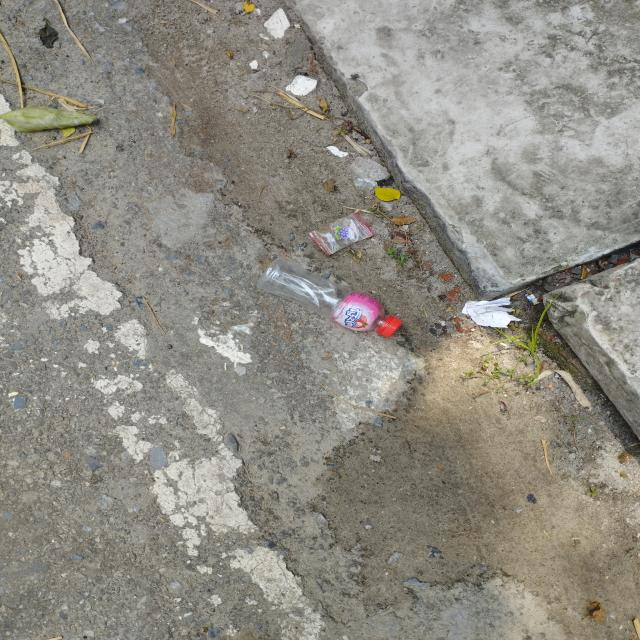paper: (457, 295, 521, 331)
plastic: (255, 255, 406, 339)
